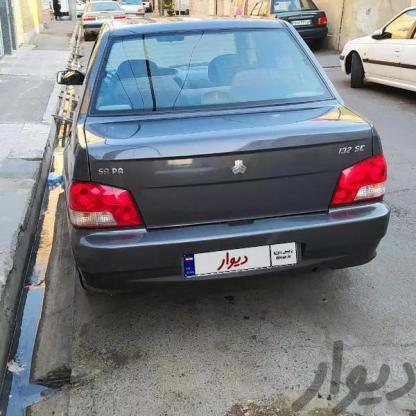Car: (67, 16, 395, 303), (343, 0, 416, 114), (235, 0, 332, 53), (66, 2, 119, 42)
